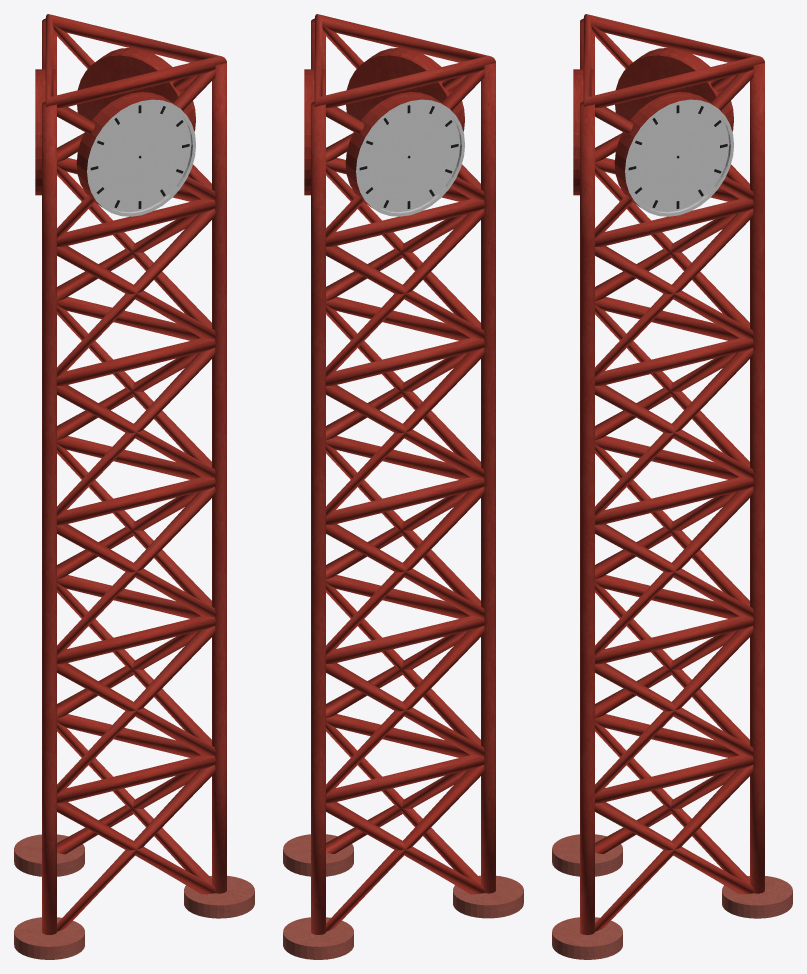
File: Tower.fbx
3 renders of one model, left to right at view 1: azimuth 30°, elevation 25°; view 2: azimuth 150°, elevation 25°; view 3: azimuth 270°, elevation 25°, orthographic.
Parts seen in each view (by area): view 1: Tower; view 2: Tower; view 3: Tower.
Part boxes in pixels (bbox=[...]): Tower: bbox=[14, 14, 254, 959]; Tower: bbox=[283, 14, 523, 959]; Tower: bbox=[552, 14, 792, 959].
Bounding box in the file's own units: 3660 × 14208 × 4059.
